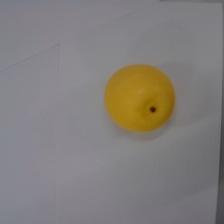yellow: (102, 62, 175, 134)
